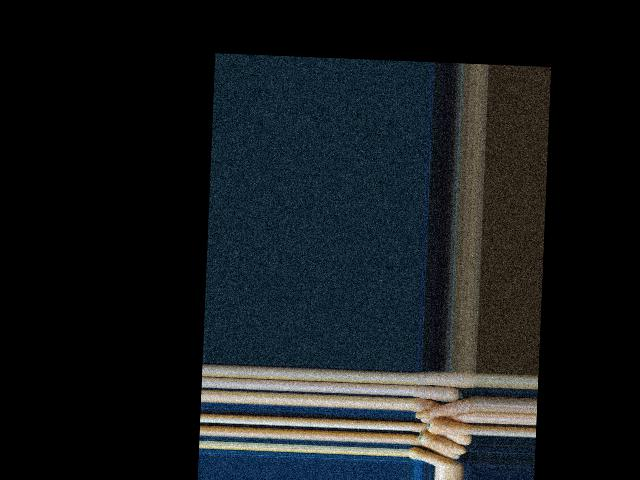carrot: (411, 371, 474, 388)
